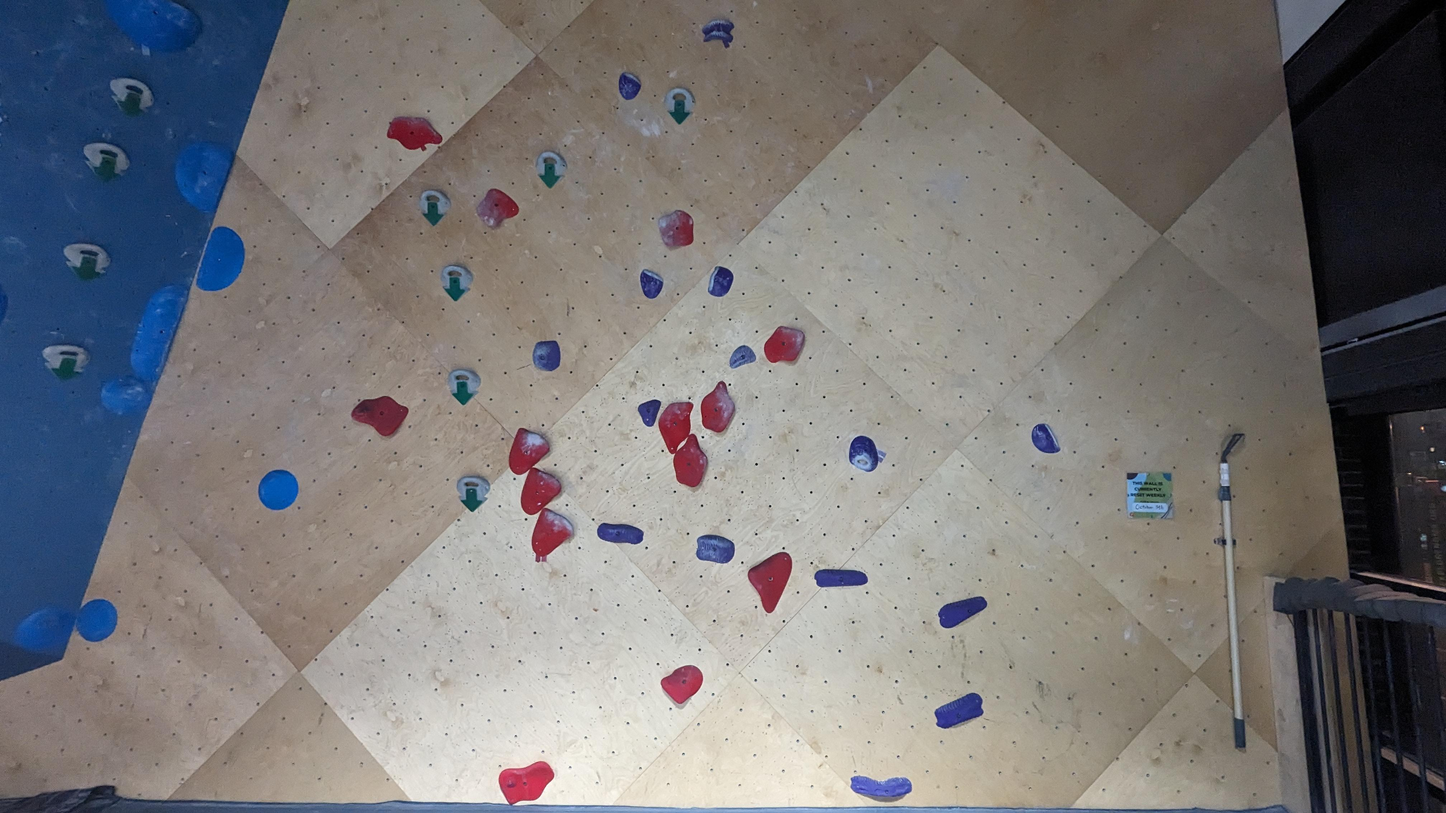black-hold: (121, 276, 190, 387), (164, 132, 238, 217), (6, 593, 84, 667), (740, 545, 811, 615), (104, 0, 201, 51), (193, 222, 253, 300), (348, 383, 411, 443), (102, 64, 162, 126), (66, 591, 127, 650), (77, 129, 135, 189), (249, 461, 307, 519), (37, 331, 97, 387), (524, 506, 579, 565), (511, 465, 566, 523), (692, 376, 744, 437), (501, 426, 555, 483), (496, 759, 559, 807), (666, 430, 716, 490), (59, 235, 116, 285), (96, 371, 153, 420), (469, 182, 522, 234), (932, 586, 990, 633), (657, 657, 710, 708), (759, 320, 808, 372), (930, 690, 988, 732), (654, 398, 694, 457), (449, 466, 498, 514), (440, 360, 488, 408), (433, 256, 480, 303), (528, 144, 574, 190), (411, 182, 457, 228), (657, 81, 703, 127), (386, 116, 443, 151), (655, 207, 698, 251), (850, 775, 913, 798), (1027, 419, 1062, 460), (694, 533, 737, 566), (610, 68, 646, 104), (848, 435, 880, 473), (596, 522, 645, 546), (633, 268, 667, 302), (814, 567, 868, 588), (705, 264, 736, 300), (633, 394, 663, 429), (531, 340, 562, 372), (725, 342, 758, 370), (701, 19, 735, 44)
